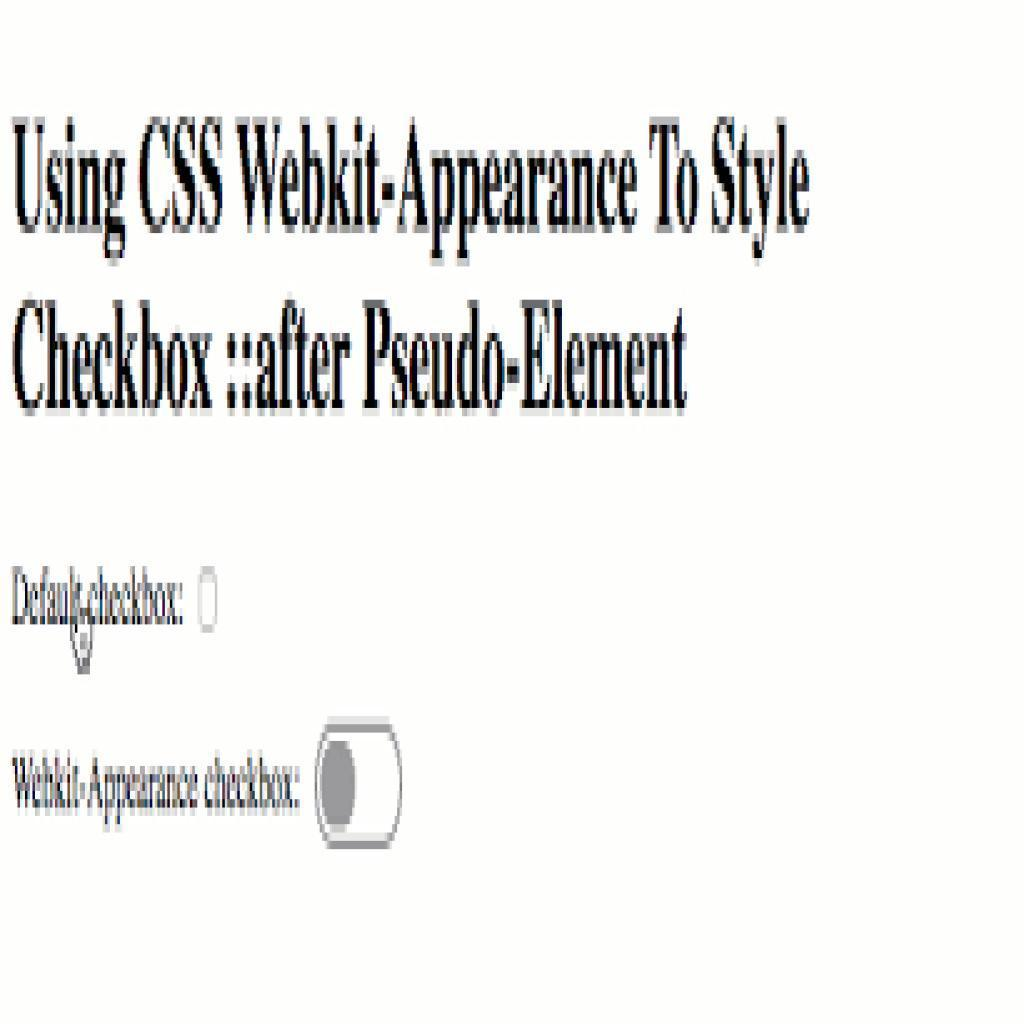checkbox: (198, 568, 219, 634)
switch: (314, 722, 405, 852)
